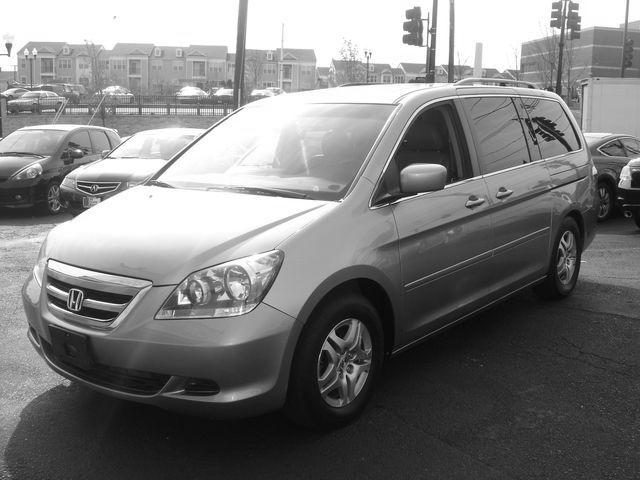car: (23, 78, 601, 403)
